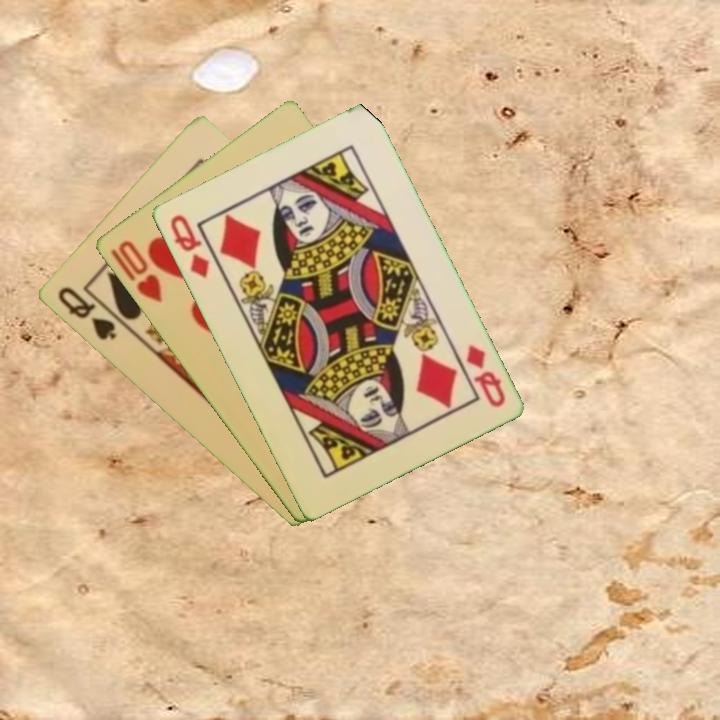10h: (114, 236, 165, 306)
Qd: (461, 340, 508, 410), (166, 210, 212, 281)
Qs: (53, 283, 119, 343)
